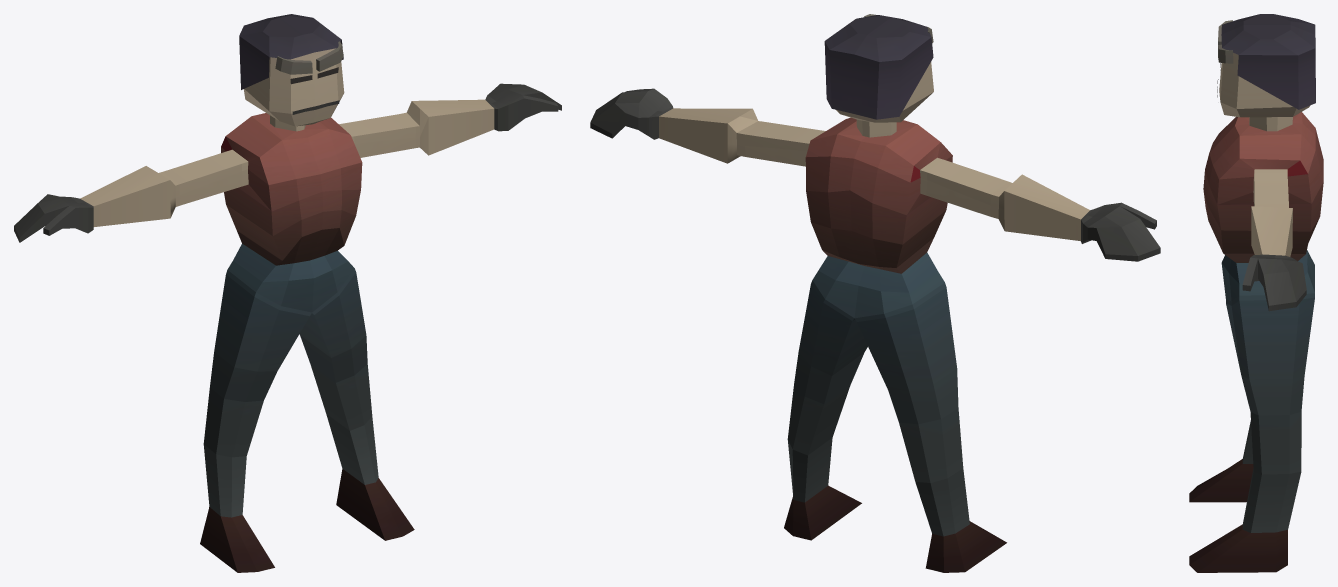
The model's file is friend new.fbx.
3 renders of one model, left to right at view 1: azimuth 30°, elevation 25°; view 2: azimuth 150°, elevation 25°; view 3: azimuth 270°, elevation 25°, orthographic. The views are drawn at different scales.
Parts seen in each view (by area): view 1: friend; view 2: friend; view 3: friend.
Part boxes in pixels (<box>): friend: <box>14,14,561,572</box>; friend: <box>590,14,1160,572</box>; friend: <box>1189,14,1323,572</box>.
Bounding box in the file's own units: 243 × 214 × 51.75.
